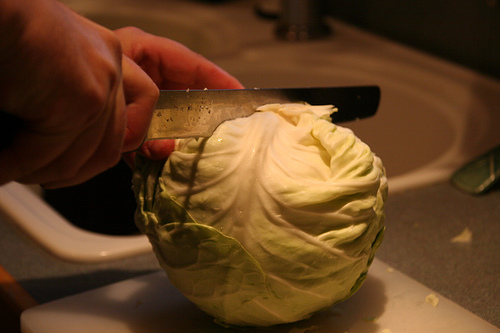cabbage: (131, 105, 388, 331)
